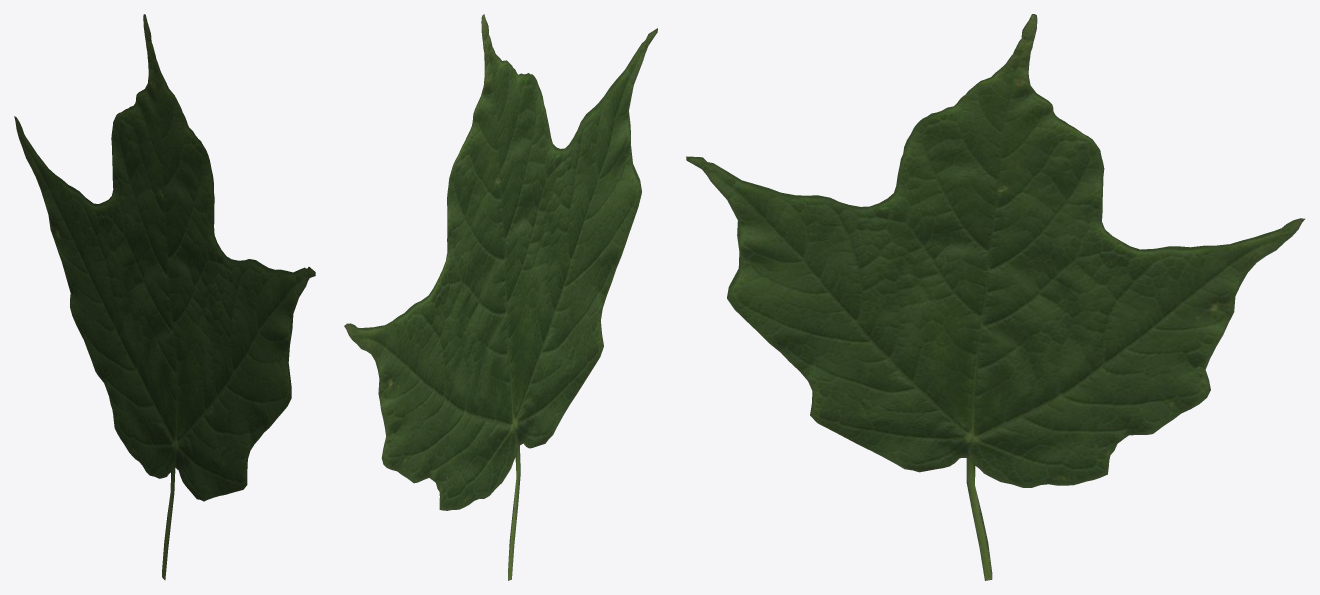
Rendered from Leaf.fbx.
3 views of the same model, side by side, from view 1: azimuth 30°, elevation 25°; view 2: azimuth 150°, elevation 25°; view 3: azimuth 270°, elevation 25° (orthographic). The views are drawn at different scales.
Visible parts, largest first — view 1: level; view 2: level; view 3: level.
Boxes of the visible parts, bbox=[...] form: level: bbox=[14, 14, 315, 580]; level: bbox=[344, 14, 657, 580]; level: bbox=[686, 14, 1304, 580].
Size of the model in its own units: 1.37 by 43.41 by 42.83.
1 material, 1 textured.
